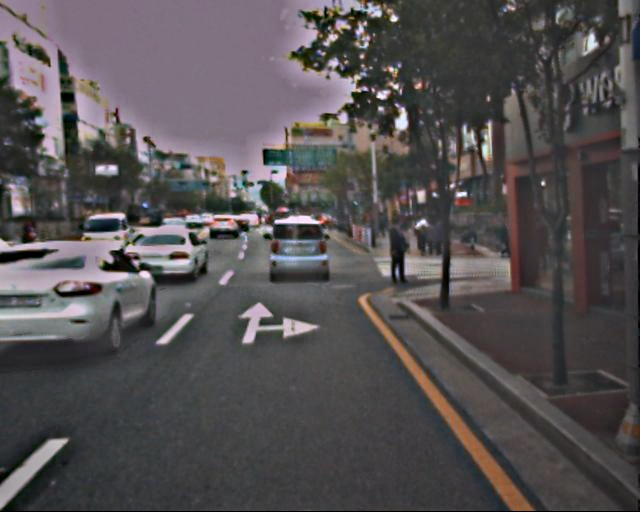person: (382, 216, 410, 285), (411, 218, 447, 255)
